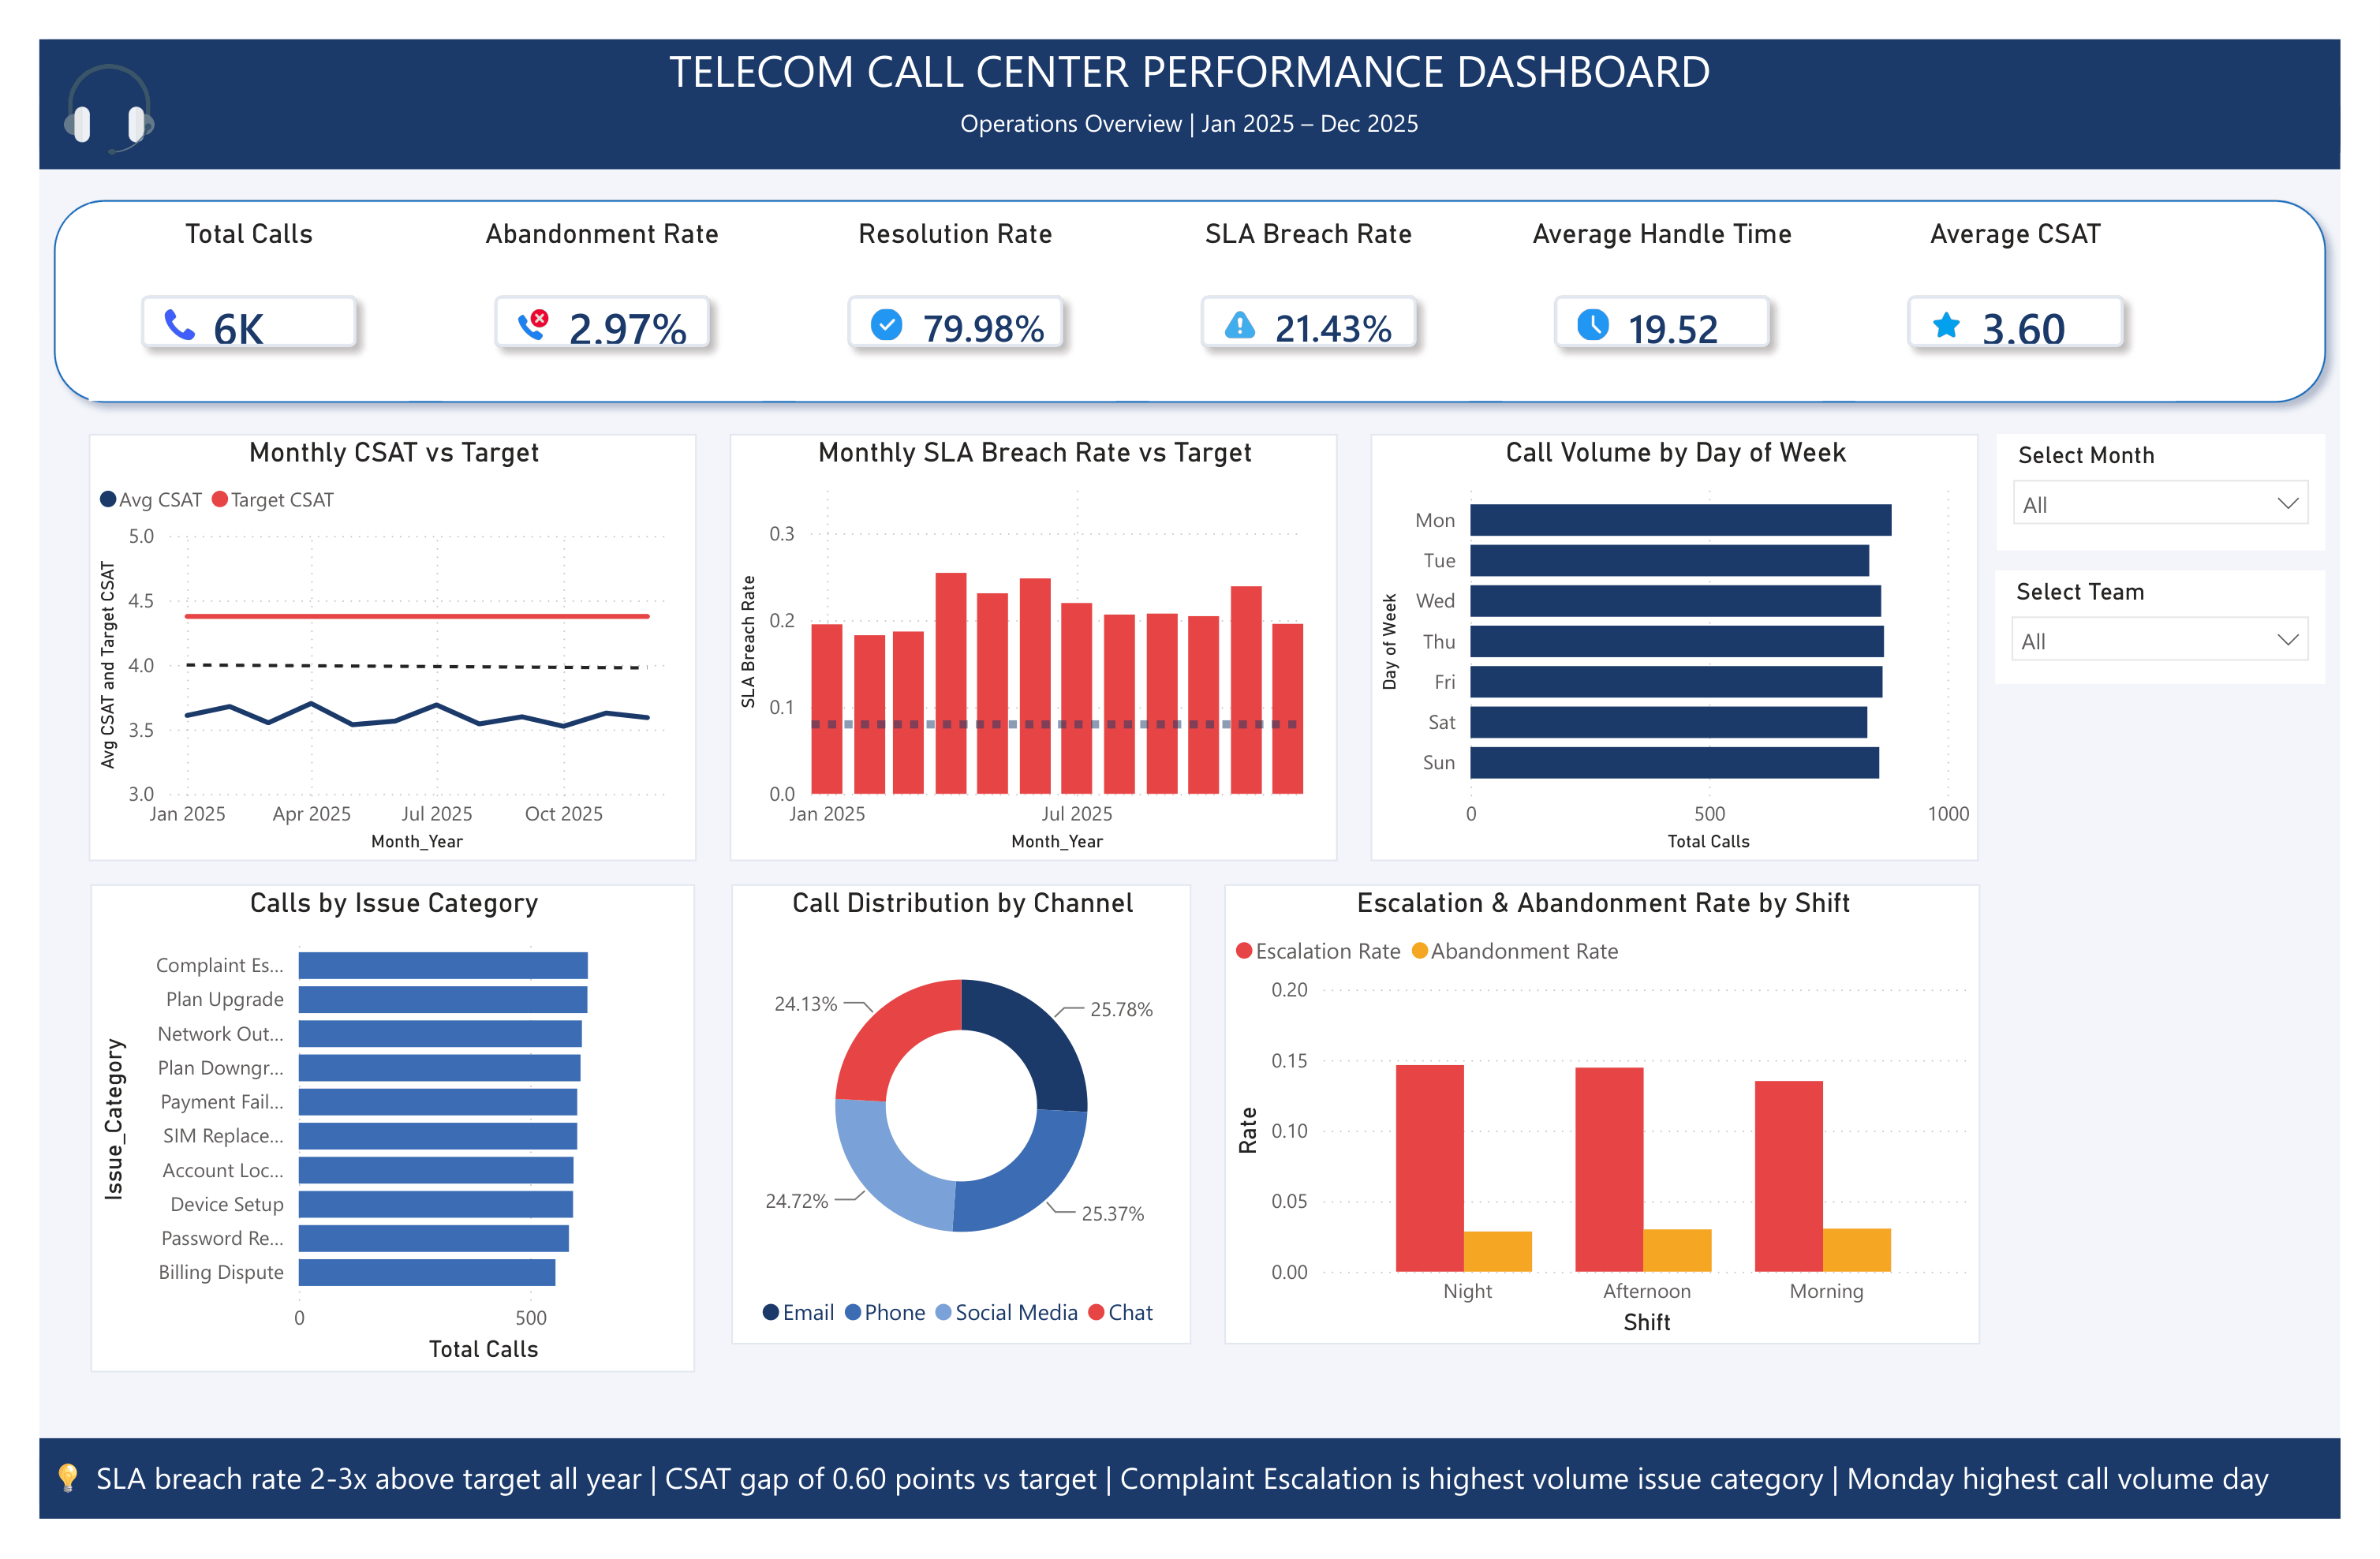

Layout of this report page (visuals, bound fields, positions):
{"tool":"powerbi","page":{"name":"Operations Overview","canvas":[1400,900],"ordinal":0},"visuals":[{"type":"shape","box":[0,88.7,1400.3,141.4],"z":0},{"type":"shape","box":[0,0,1400.1,79.5],"z":1000},{"type":"textbox","title":"TELECOM CALL CENTER PERFORMANCE DASHBOARD","box":[0,0,1400.1,39.7],"z":2000},{"type":"textbox","title":"Operations Overview | Jan 2025 – Dec 2025","box":[0,39.7,1400.1,29],"z":3000},{"type":"cardVisual","title":"Total Calls","fields":{"Data":["Calls.Total Calls"]},"box":[30,100,195,120],"z":4000},{"type":"cardVisual","title":"Abandonment Rate","fields":{"Data":["Calls.Abandonment Rate"]},"box":[245,100,195,120],"z":5000},{"type":"cardVisual","title":"Resolution Rate","fields":{"Data":["Calls.Resolution Rate"]},"box":[460,100,195,120],"z":6000},{"type":"cardVisual","title":"SLA Breach Rate","fields":{"Data":["Calls.SLA Breach Rate"]},"box":[675,100,195,120],"z":7000},{"type":"cardVisual","title":"Average Handle Time","fields":{"Data":["Calls.Avg Handle Time"]},"box":[890,100,195,120],"z":8000},{"type":"cardVisual","title":"Average CSAT","fields":{"Data":["Calls.Avg CSAT"]},"box":[1105,100,195,120],"z":9000},{"type":"lineChart","title":"Monthly CSAT vs Target","fields":{"Category":["Calls.Month_Year"],"Y":["Calls.Avg CSAT","Calls.Target CSAT"]},"box":[30,240,370,260],"z":10000},{"type":"clusteredColumnChart","title":"Monthly SLA Breach Rate vs Target","fields":{"Category":["Calls.Month_Year"],"Y":["Calls.SLA Breach Rate"]},"box":[420,240,370,260],"z":11000},{"type":"clusteredBarChart","title":"Call Volume by Day of Week","fields":{"Y":["Calls.Total Calls"],"Category":["Calls.Day of Week"]},"box":[810,240,370,260],"z":12000},{"type":"donutChart","title":"Call Distribution by Channel","fields":{"Category":["Calls. Channel"],"Y":["Calls.Total Calls"]},"box":[421.1,514.4,280,280],"z":13000},{"type":"clusteredBarChart","title":"Calls by Issue Category","fields":{"Y":["Calls.Total Calls"],"Category":["Issue_Categories.Issue_Category "]},"box":[30.5,514.4,368.8,296.7],"z":14000},{"type":"clusteredColumnChart","title":"Escalation & Abandonment Rate by Shift","fields":{"Category":["Calls. Shift "],"Y":["Calls.Escalation Rate","Calls.Abandonment Rate"]},"box":[721.1,514.4,460,280],"z":15000},{"type":"slicer","fields":{"Values":["Calls.Month_Year"]},"box":[1190.9,239.8,199.6,70.7],"z":16000},{"type":"slicer","fields":{"Values":["Agents. Team "]},"box":[1189.5,323,201,69.3],"z":17000},{"type":"shape","box":[0,850.5,1401,49.8],"z":18000},{"type":"textbox","title":"💡 SLA breach rate 2-3x above target all year | CSAT gap of 0.60 points vs target | Complaint Escalation is highest volume issue category | Monday highest call volume day","box":[0,862.6,1399.5,28.7],"z":19000},{"type":"image","box":[15,15,55,55],"z":19001}]}

Visuals, with their boxes on the page's 1400x900 design canvas (x1, y1, x2, y2). These are canvas units, not pixel positions in the 2380x1559 screenshot, which may show the page scaled, cropped or inside an application window:
shape: [x1=0, y1=89, x2=1400, y2=230]
shape: [x1=0, y1=0, x2=1400, y2=80]
"TELECOM CALL CENTER PERFORMANCE DASHBOARD" textbox: [x1=0, y1=0, x2=1400, y2=40]
"Operations Overview | Jan 2025 – Dec 2025" textbox: [x1=0, y1=40, x2=1400, y2=69]
"Total Calls" cardVisual: [x1=30, y1=100, x2=225, y2=220]
"Abandonment Rate" cardVisual: [x1=245, y1=100, x2=440, y2=220]
"Resolution Rate" cardVisual: [x1=460, y1=100, x2=655, y2=220]
"SLA Breach Rate" cardVisual: [x1=675, y1=100, x2=870, y2=220]
"Average Handle Time" cardVisual: [x1=890, y1=100, x2=1085, y2=220]
"Average CSAT" cardVisual: [x1=1105, y1=100, x2=1300, y2=220]
"Monthly CSAT vs Target" lineChart: [x1=30, y1=240, x2=400, y2=500]
"Monthly SLA Breach Rate vs Target" clusteredColumnChart: [x1=420, y1=240, x2=790, y2=500]
"Call Volume by Day of Week" clusteredBarChart: [x1=810, y1=240, x2=1180, y2=500]
"Call Distribution by Channel" donutChart: [x1=421, y1=514, x2=701, y2=794]
"Calls by Issue Category" clusteredBarChart: [x1=30, y1=514, x2=399, y2=811]
"Escalation & Abandonment Rate by Shift" clusteredColumnChart: [x1=721, y1=514, x2=1181, y2=794]
slicer - Calls.Month_Year: [x1=1191, y1=240, x2=1390, y2=310]
slicer - Agents. Team : [x1=1190, y1=323, x2=1390, y2=392]
shape: [x1=0, y1=850, x2=1401, y2=900]
"💡 SLA breach rate 2-3x above target all year | CSAT gap of 0.60 points vs target | Complaint Escalation is highest volume issue category | Monday highest call volume day" textbox: [x1=0, y1=863, x2=1400, y2=891]
image: [x1=15, y1=15, x2=70, y2=70]
